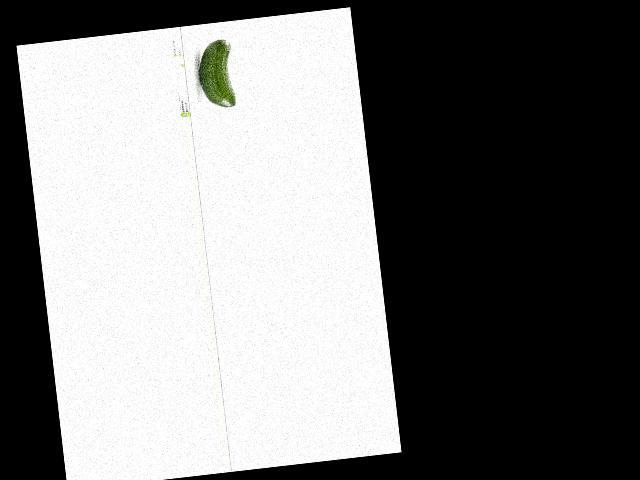cucumber: (195, 38, 236, 109)
